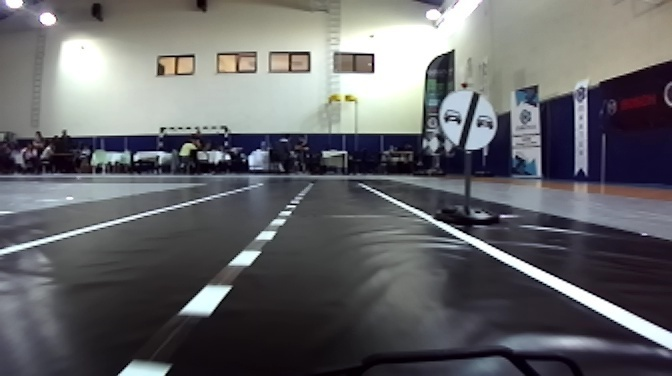sollama_serbest: (438, 89, 496, 149)
